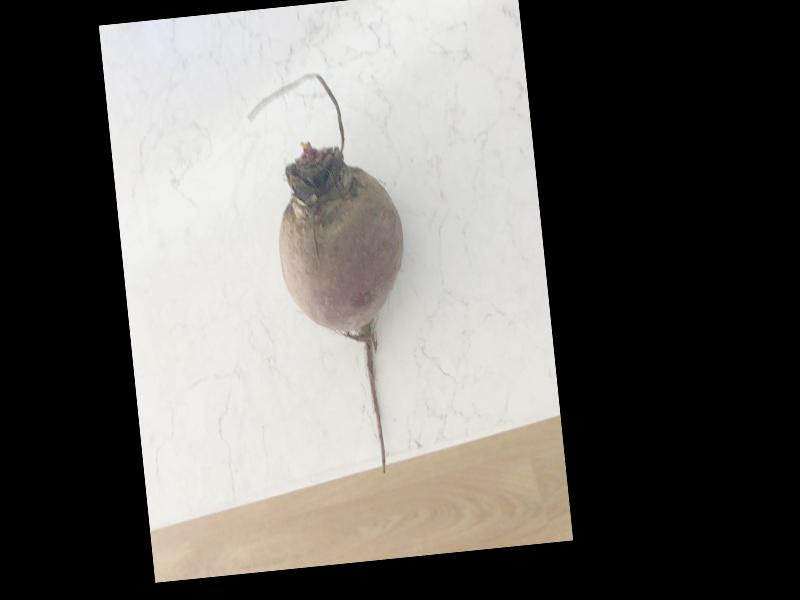Beet: (245, 68, 426, 484)
